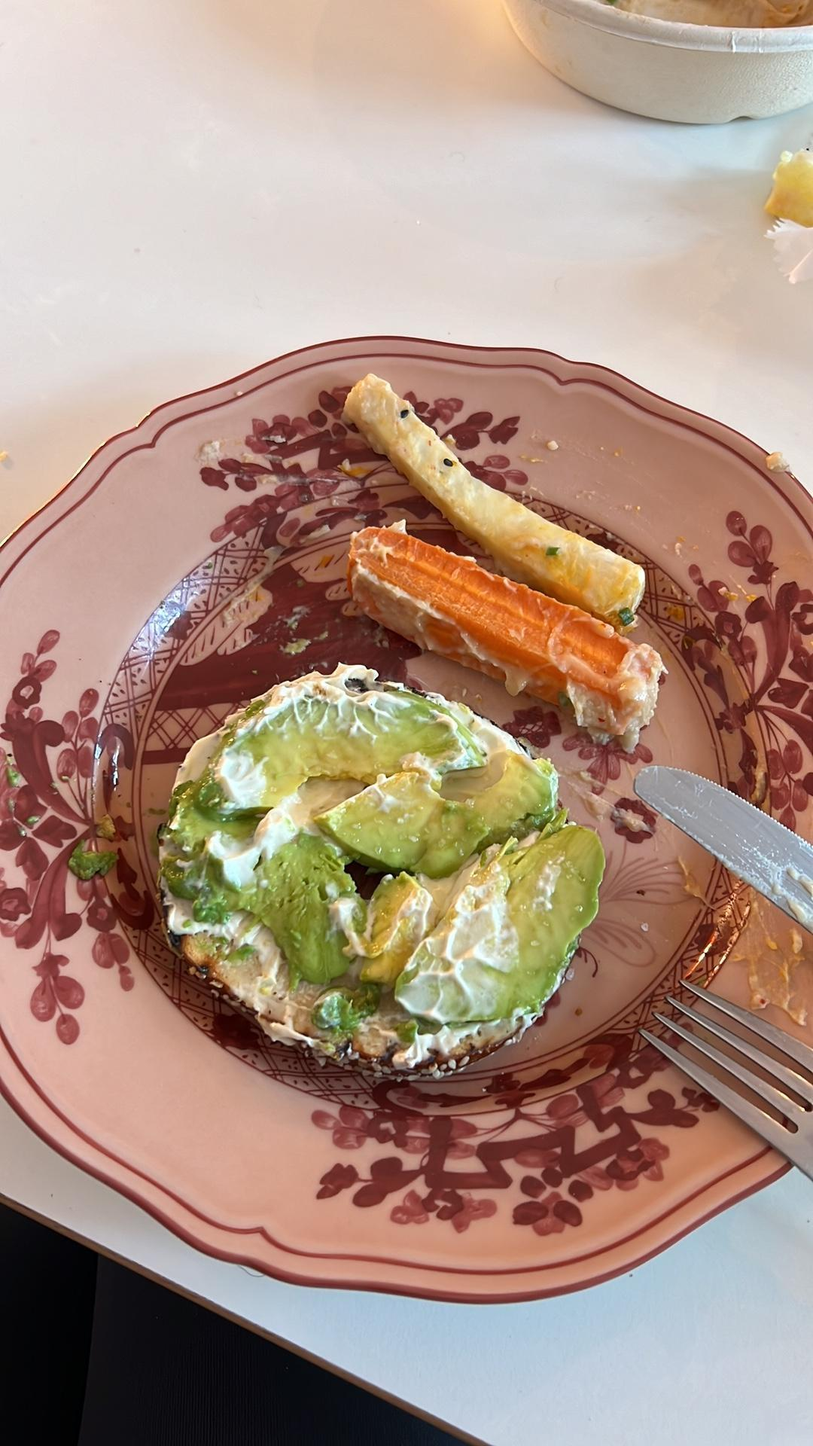avocado: (177, 670, 602, 1073)
carrot: (348, 520, 664, 740)
